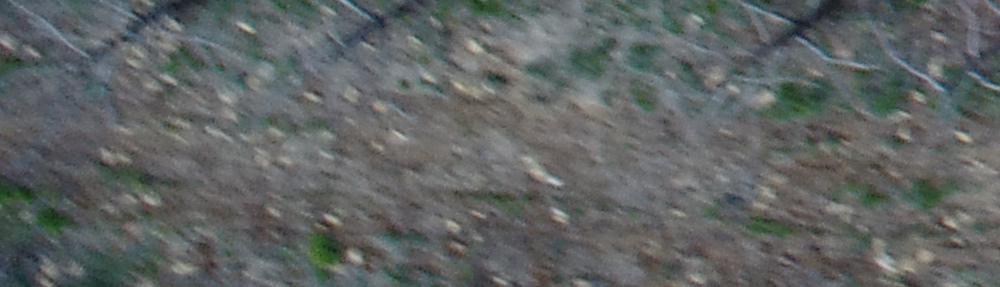apple: (658, 10, 883, 115), (11, 10, 223, 78), (256, 10, 456, 69)
